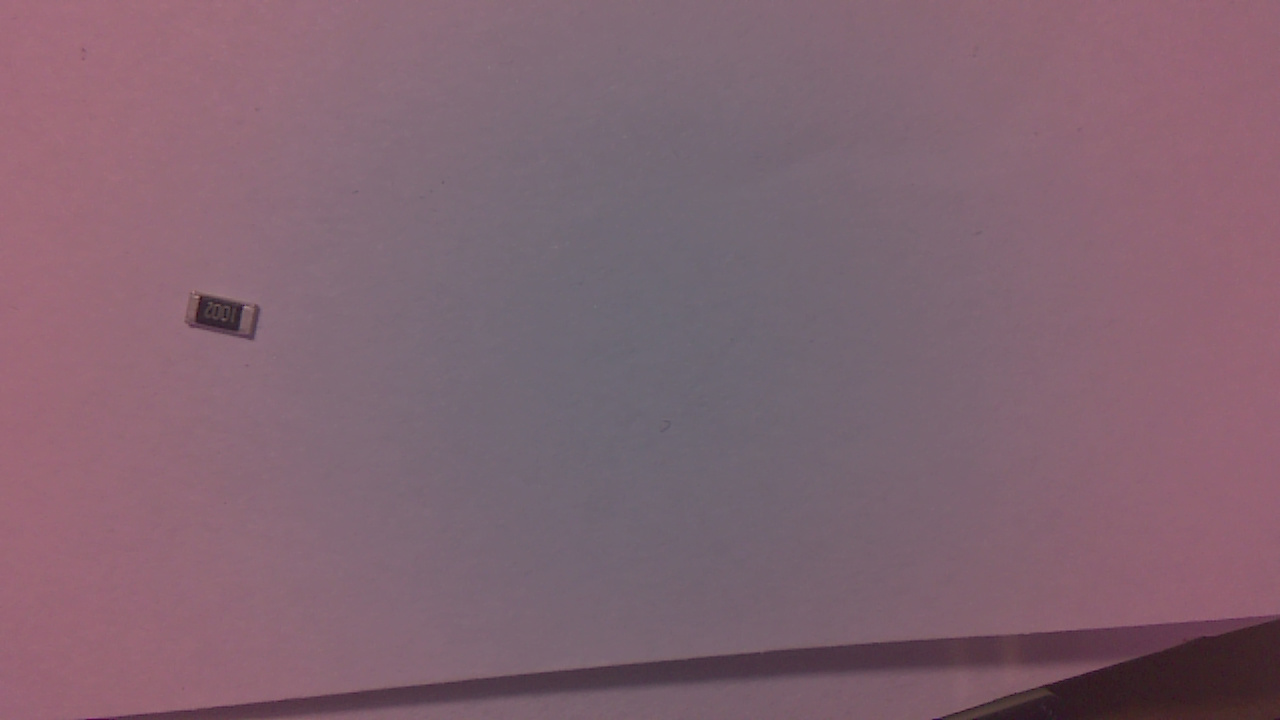Resistor: (185, 290, 267, 347)
